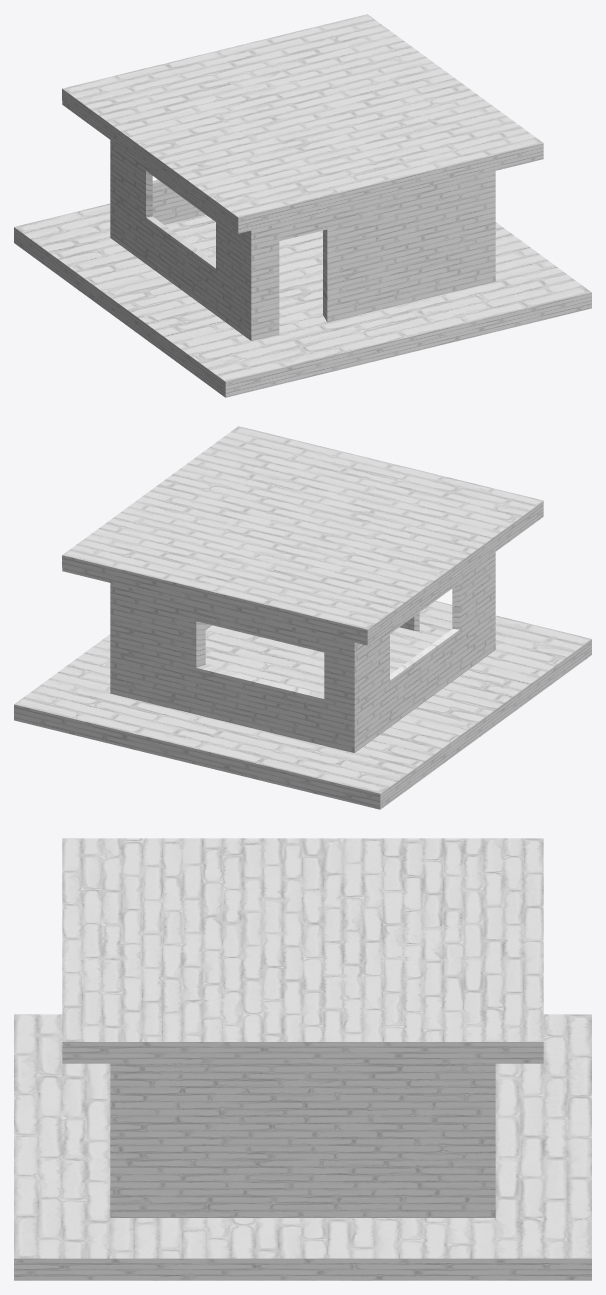
File: Casa base 3.fbx
3 renders of one model, top to bottom at view 1: azimuth 30°, elevation 25°; view 2: azimuth 150°, elevation 25°; view 3: azimuth 270°, elevation 25°, orthographic. The views are drawn at different scales.
Visible parts, largest first — view 1: Suelo.014, Suelo.013, Paredes.002; view 2: Suelo.014, Suelo.013, Paredes.002; view 3: Suelo.014, Suelo.013, Paredes.002.
Boxes of the visible parts, x1,y1,x2,y2 form: Suelo.014: (62, 14, 543, 233); Suelo.013: (14, 203, 591, 397); Paredes.002: (110, 140, 495, 340); Suelo.014: (62, 426, 543, 645); Suelo.013: (14, 601, 591, 809); Paredes.002: (110, 552, 495, 752); Suelo.014: (62, 838, 543, 1063); Suelo.013: (14, 1014, 591, 1280); Paredes.002: (110, 1063, 495, 1217).
Bounding box in the file's own units: 1200 × 500 × 1200.
